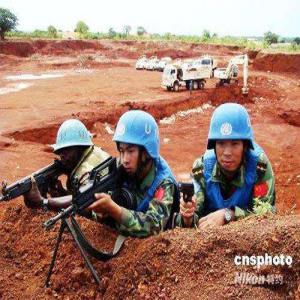blue: (112, 108, 162, 179), (209, 102, 253, 175), (53, 117, 94, 172)
